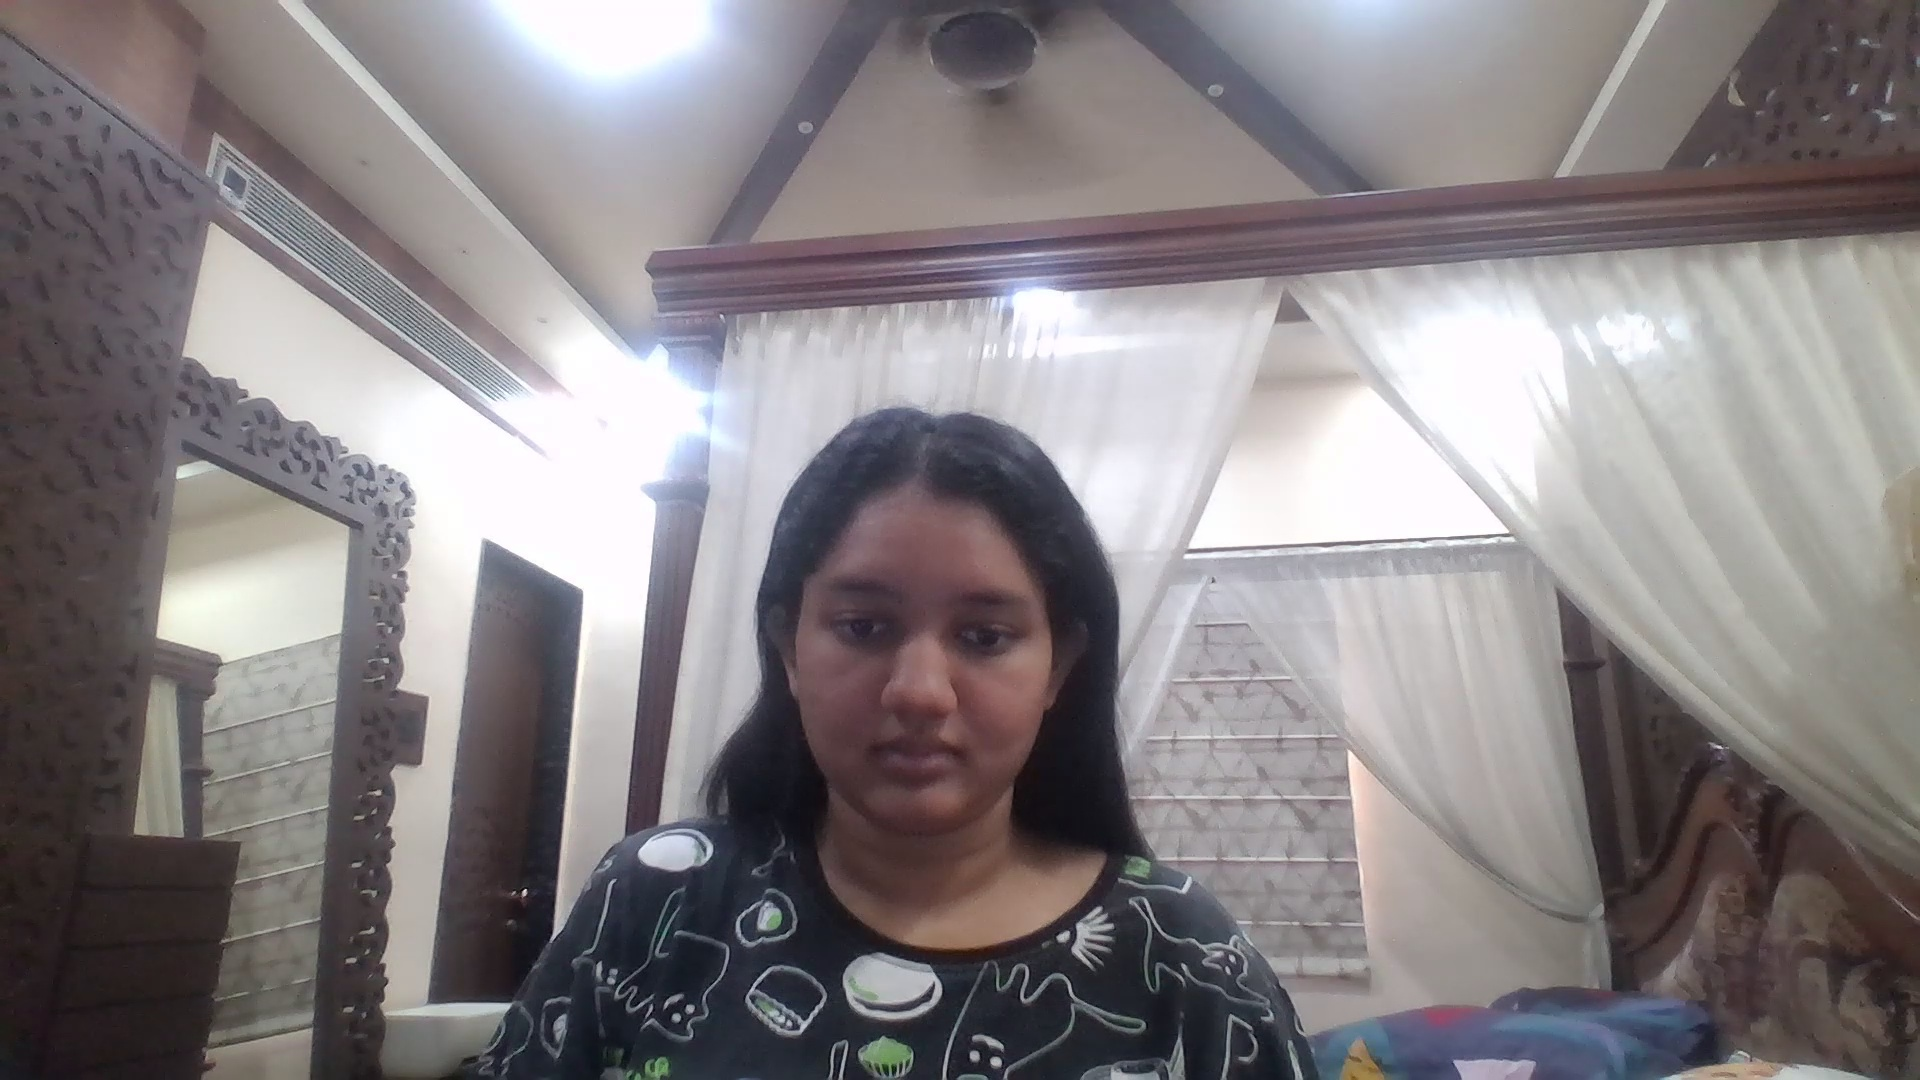No Mask: (792, 663, 1051, 823)
